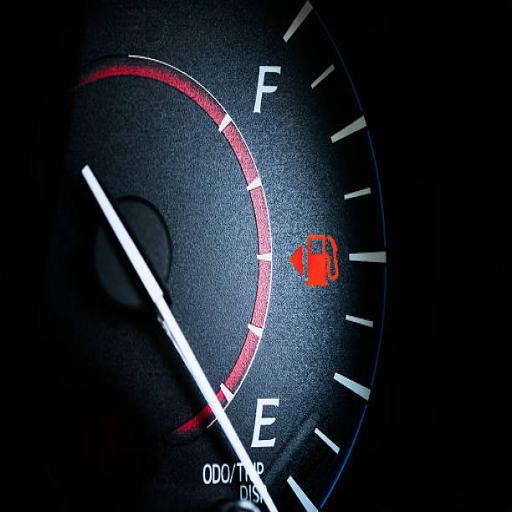empty: (246, 394, 280, 449)
fuel_icon: (306, 229, 338, 287)
full: (254, 62, 280, 112)
guage_area: (48, 8, 392, 509)
needle_center: (91, 197, 173, 316)
needle_tip: (243, 464, 284, 512)
